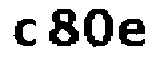0: (80, 6, 115, 51)
8: (46, 5, 80, 51)
c: (13, 17, 38, 48)
e: (118, 16, 148, 49)
